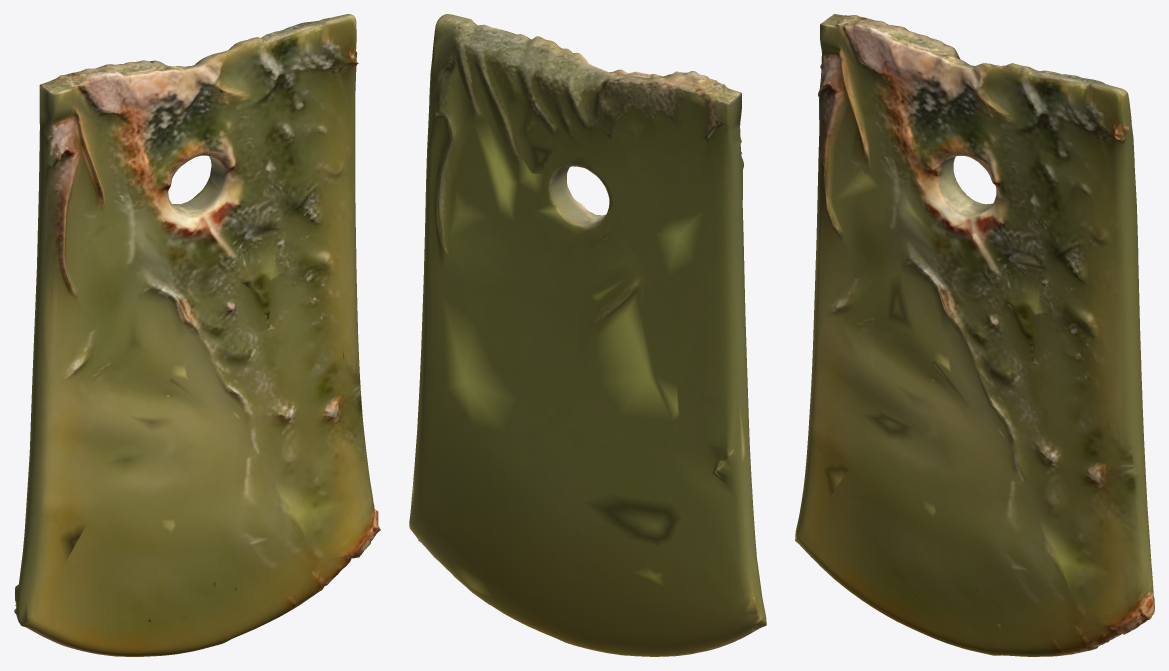
The model's file is jade-yue-roaming.glb.
The picture shows the model from 3 angles, left to right: view 1: azimuth 30°, elevation 25°; view 2: azimuth 150°, elevation 25°; view 3: azimuth 330°, elevation 25°; orthographic projection.
Parts seen in each view (by area): view 1: node_0; view 2: node_0; view 3: node_0.
Boxes of the visible parts, x1,y1,x2,y2 form: node_0: (14, 14, 380, 656); node_0: (409, 14, 766, 656); node_0: (795, 14, 1154, 656).
Bounding box in the file's own units: 0.6693 × 1.07 × 0.0847.
Materials: 1 (1 with a texture image).
